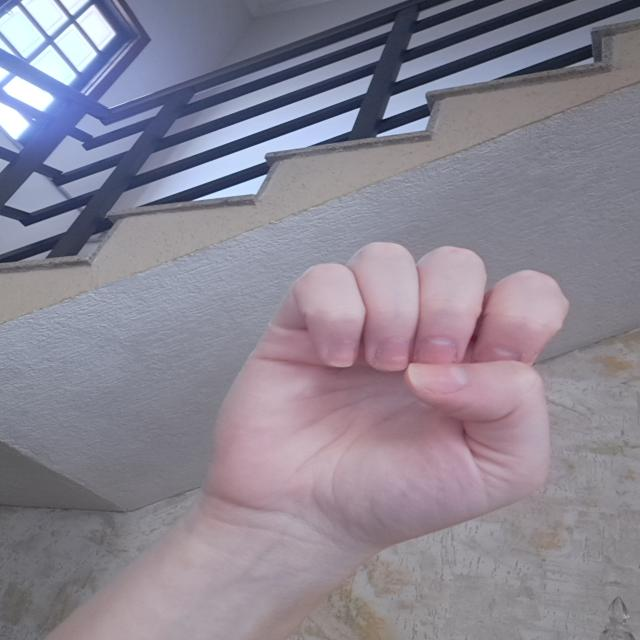E: (198, 241, 586, 545)
